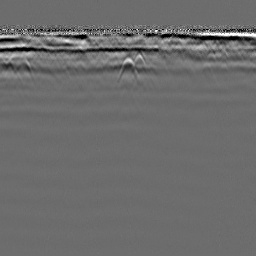cavity: (115, 55, 142, 84)
